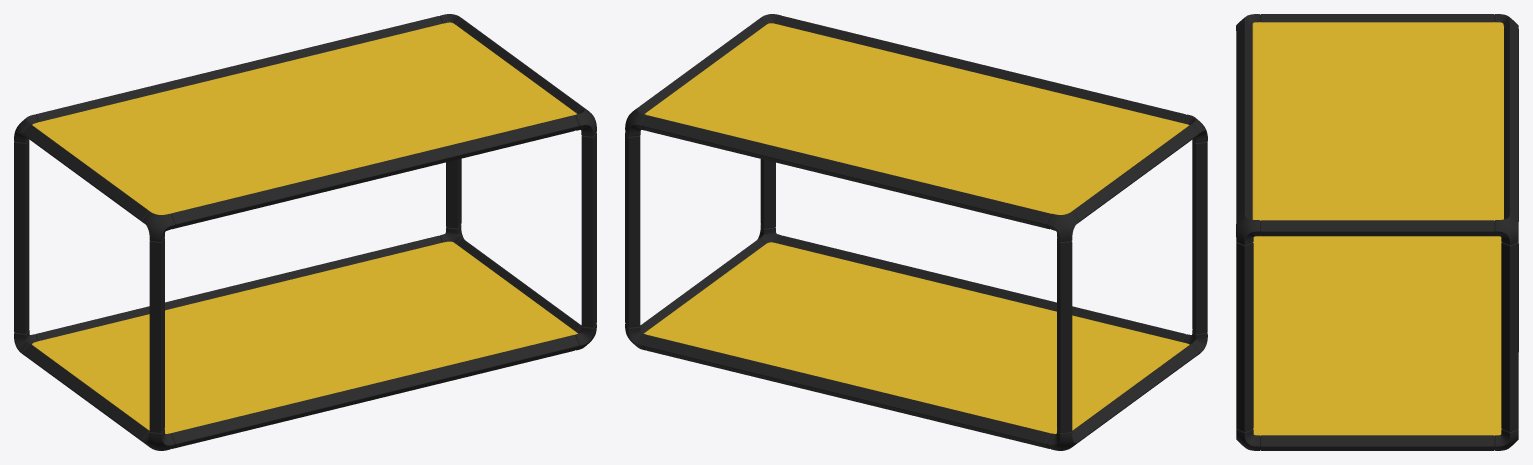
The picture shows the model from 3 angles, left to right: view 1: azimuth 30°, elevation 25°; view 2: azimuth 150°, elevation 25°; view 3: azimuth 270°, elevation 25°; orthographic projection. The views are drawn at different scales.
Parts seen in each view (by area): view 1: 729x374x329; view 2: 729x374x329; view 3: 729x374x329.
Part boxes in pixels (x1,y1,x2,y2): 729x374x329: [14, 14, 596, 450]; 729x374x329: [625, 14, 1207, 450]; 729x374x329: [1236, 14, 1518, 450].
Bounding box in the file's own units: 0.8067 × 0.4066 × 0.4513.
